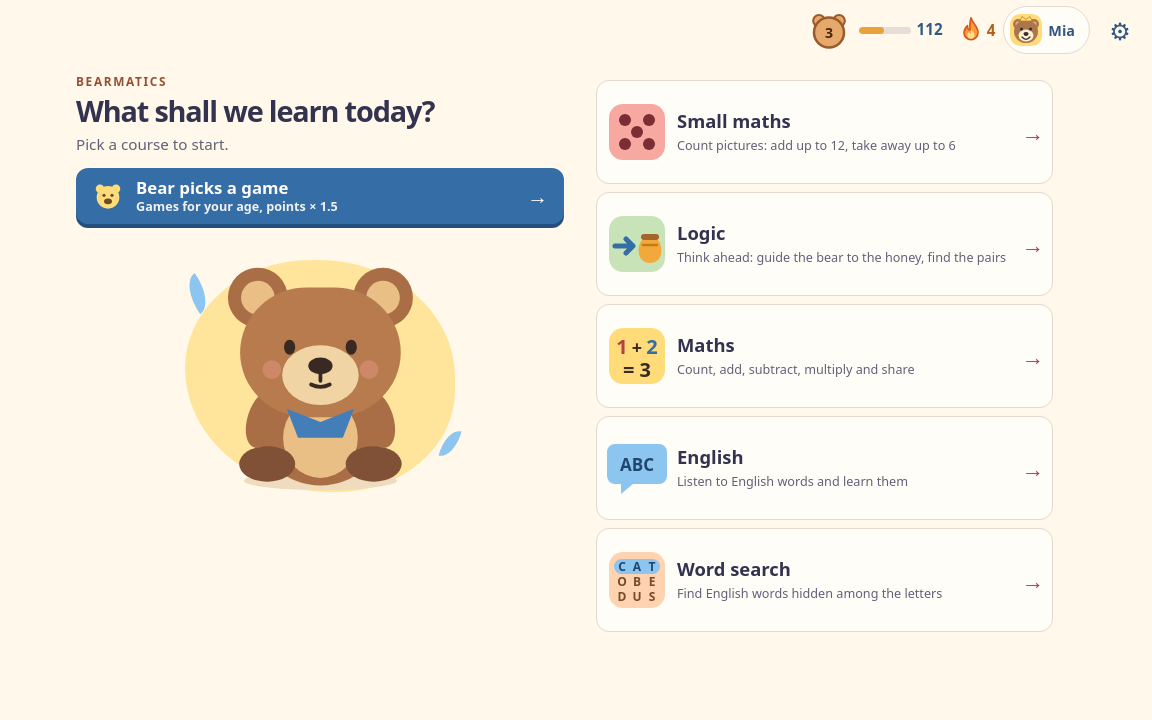
badge opens the badge details; points + bar open the leaderboard with my row
The width and height of the screenshot is (1152, 720).
Click the button named "Bear badge 3, 112 points" at [829, 30], box [807,6,851,54]
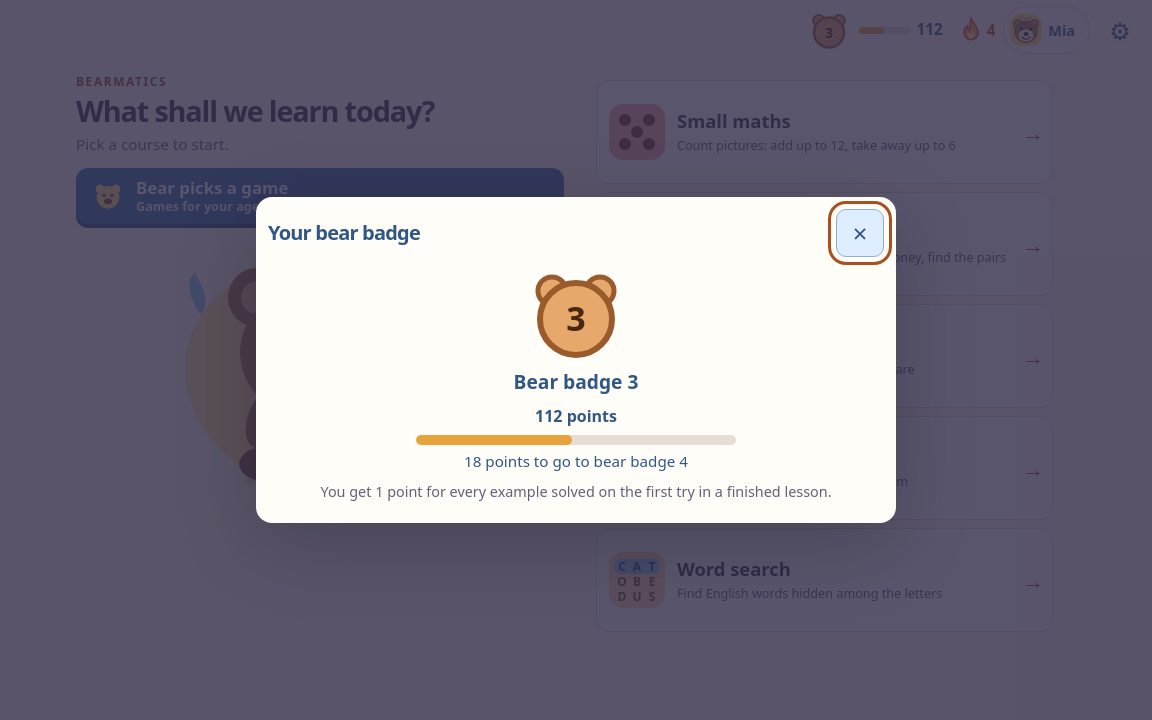
Check: the dialog "Your bear badge" is shown, box [256,197,896,523]
Click the button named "Close badge details" at [860, 233], box [836,209,884,257]
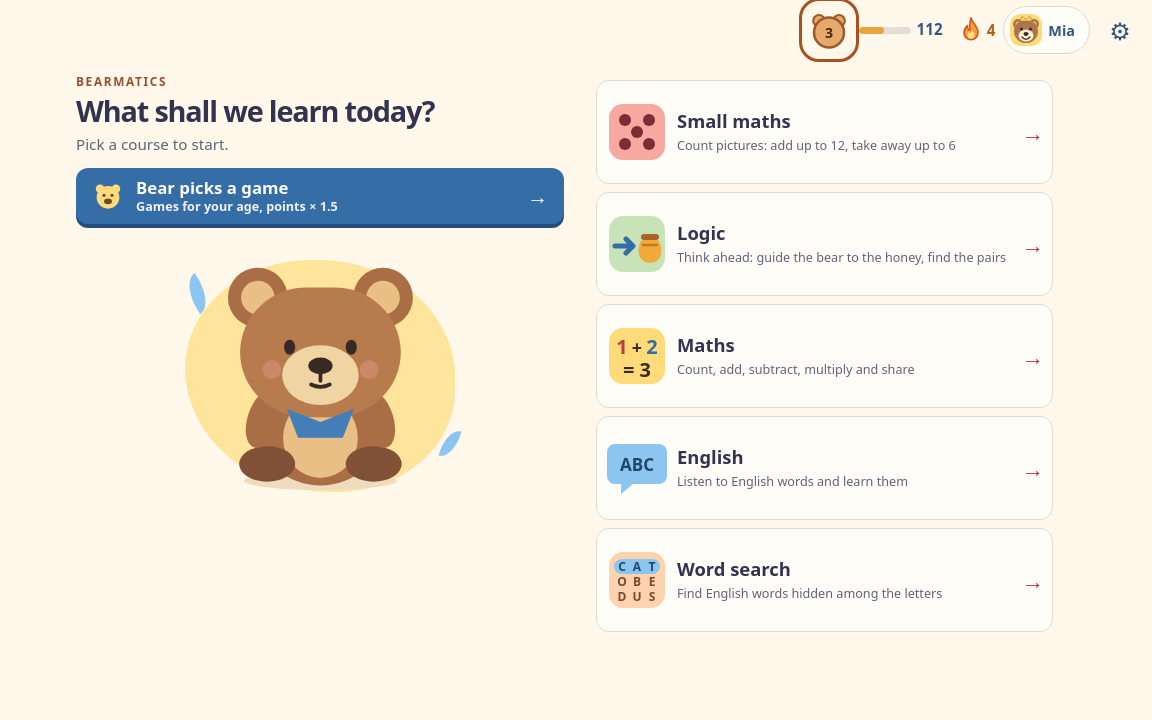
Click the button named "Leaderboard, 112 points" at [901, 30], box [857,6,945,54]
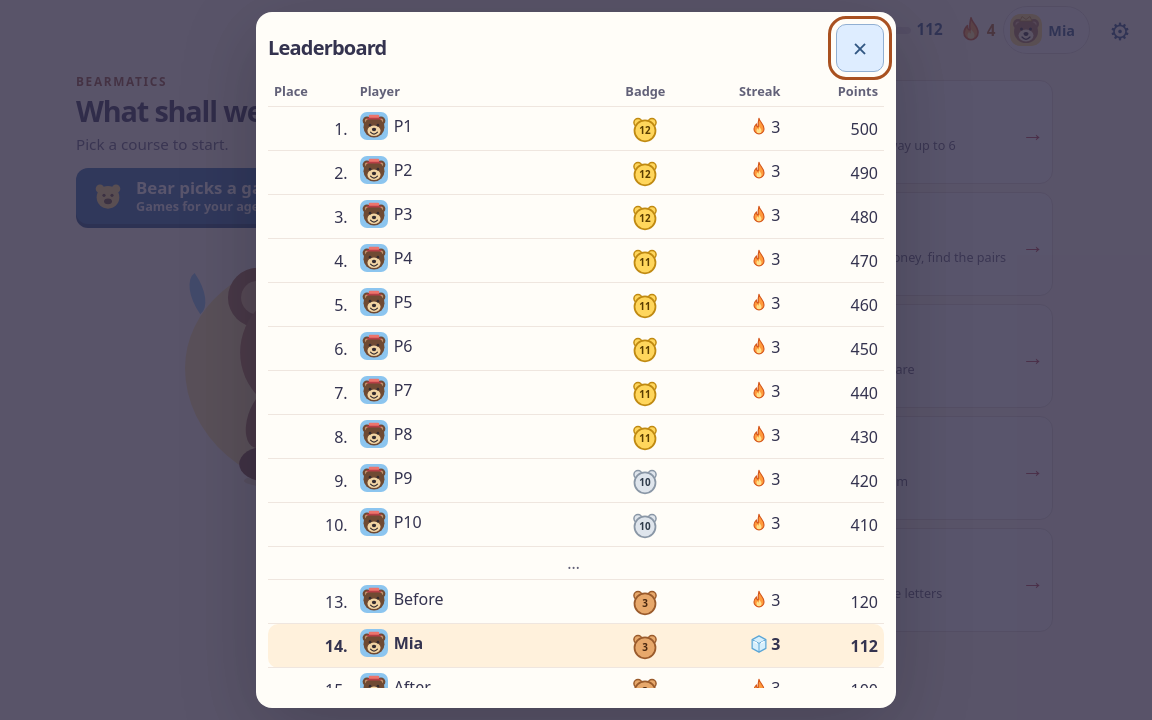
Check: the number of rows is 15
Check: the text "Mia" is shown, box [394,631,463,654]
Check: the cell named "Place 14" is shown, box [268,624,354,668]
Press Escape in the dialog "Leaderboard", box [256,12,896,708]
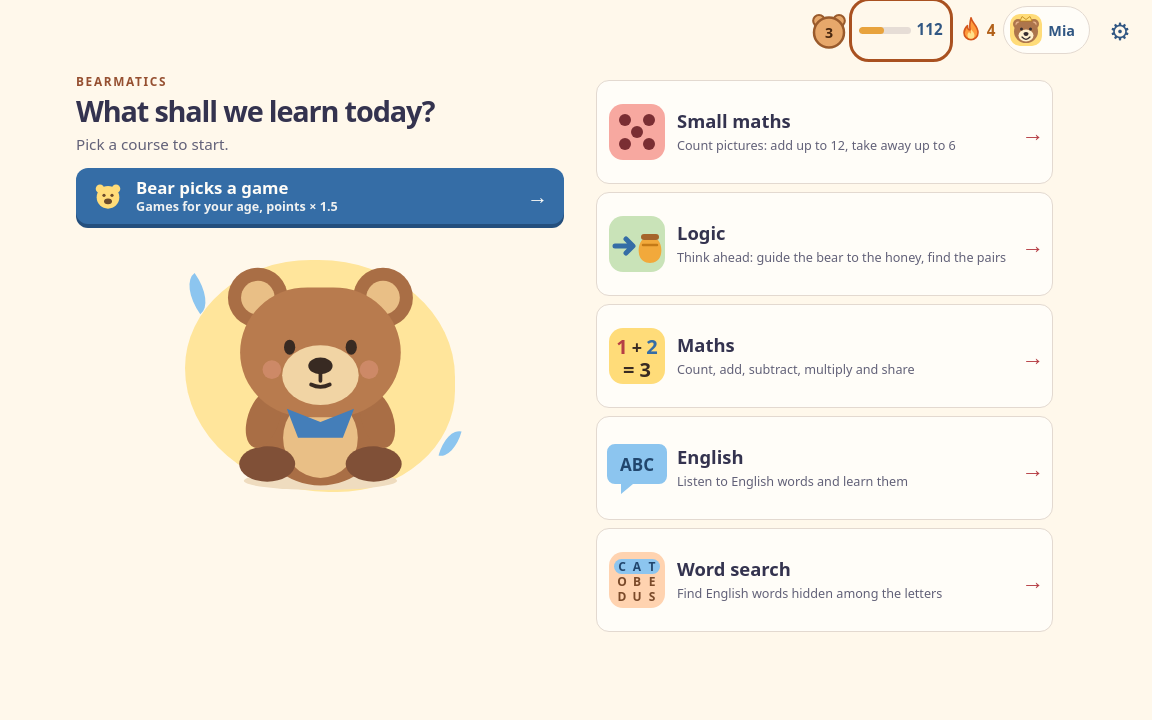
Check: the dialog is gone
